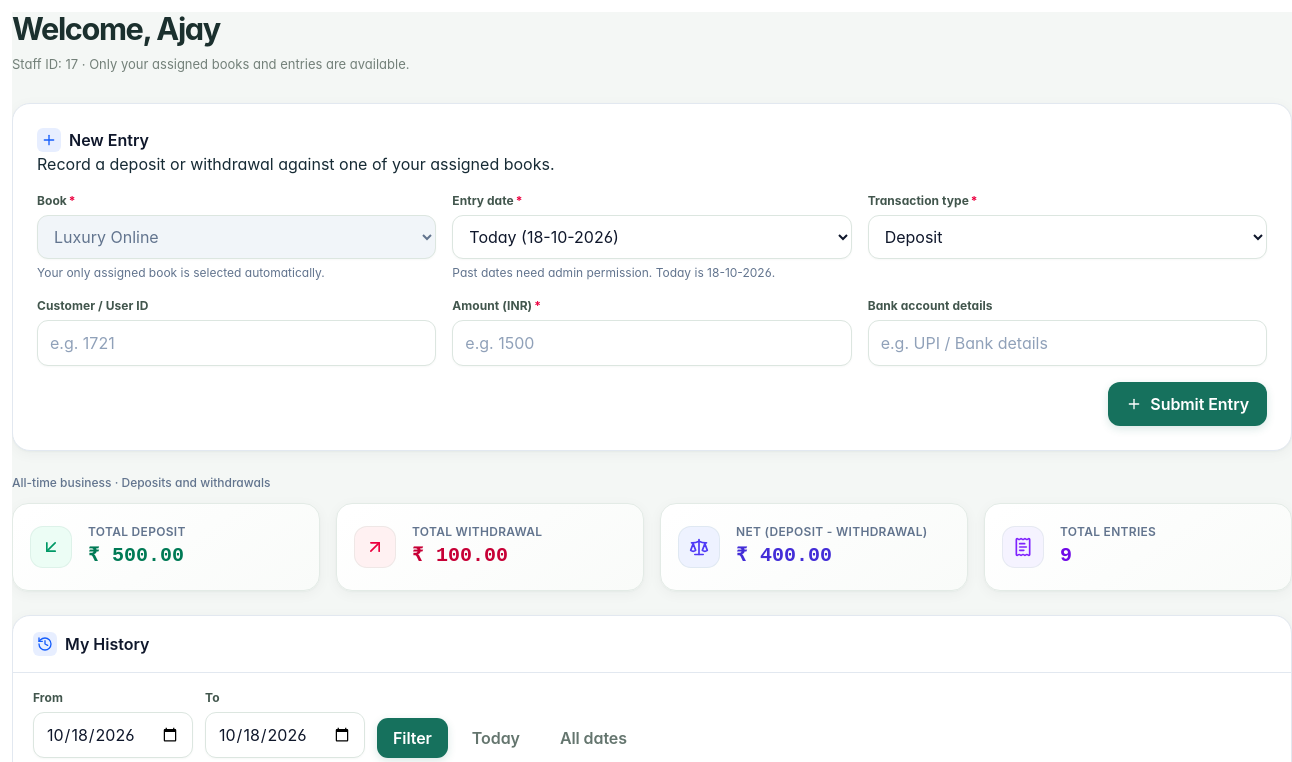
Test case: automatically selects the only assigned active book and submits without a book click
Check: the dropdown labelled "Book*" shows "Luxury Online", box [37,215,436,259]
Check: the dropdown labelled "Book*" is disabled, box [37,215,436,259]
Type "25" into the field labelled "Amount (INR)*" at (652, 343), box [452,320,852,366]
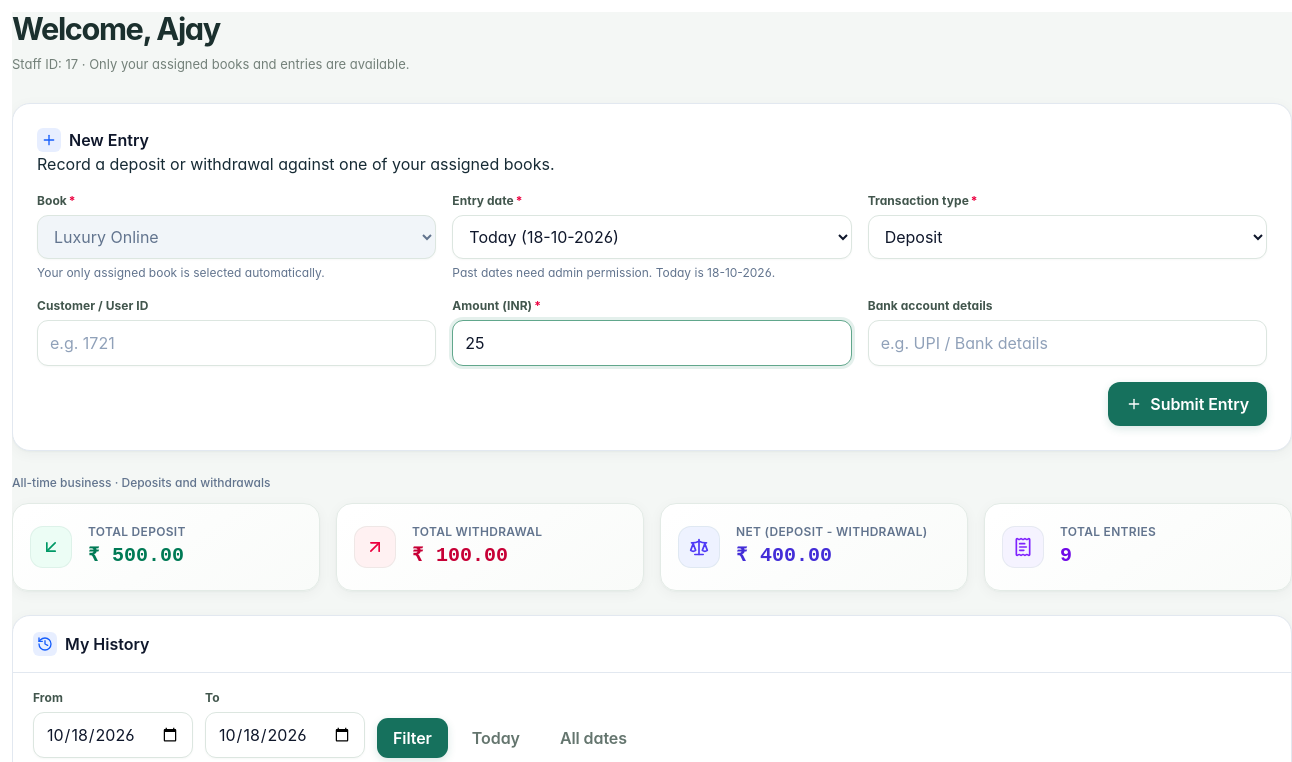
Click the button "Submit Entry" at (1188, 404), box [1108,382,1267,426]
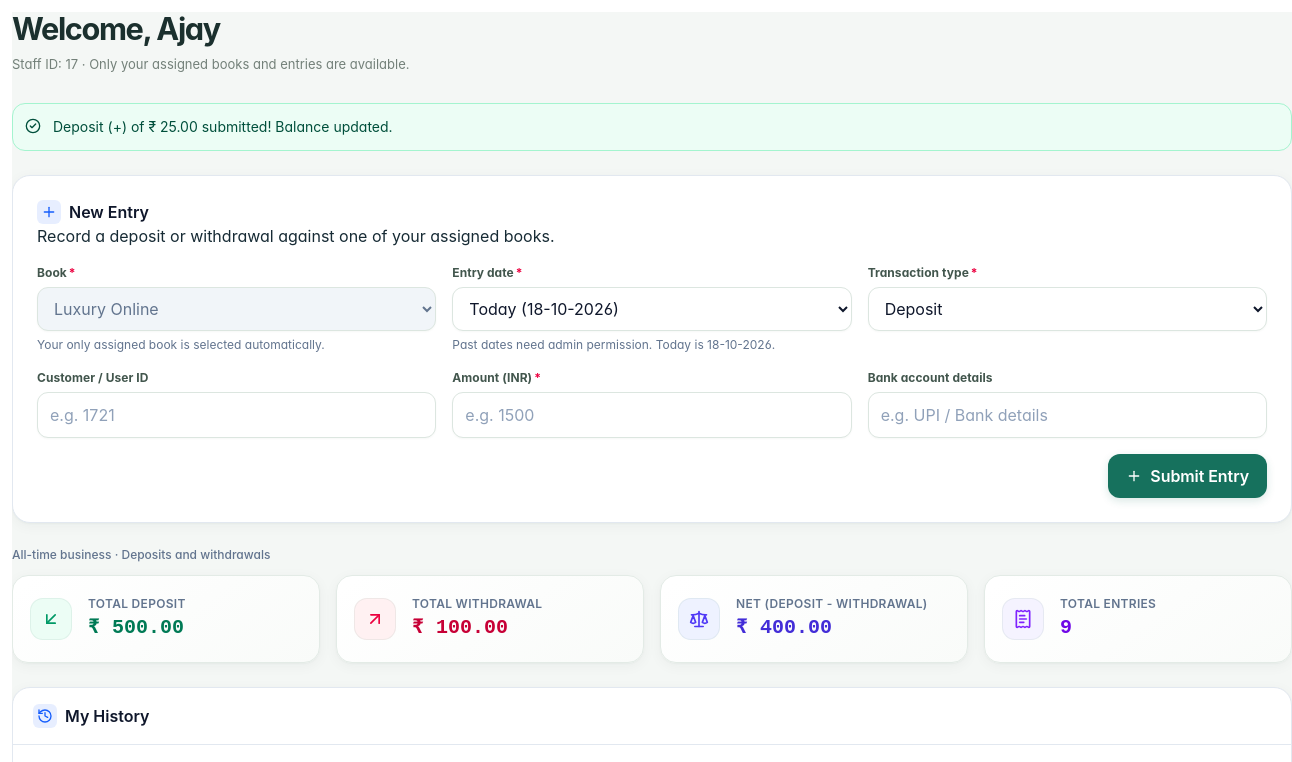
Check: the dropdown labelled "Book*" shows "Luxury Online", box [37,287,436,331]
Check: the text "Deposit (+) of ₹ 25.00 submitted! Balance updated." is shown, box [53,116,393,138]
